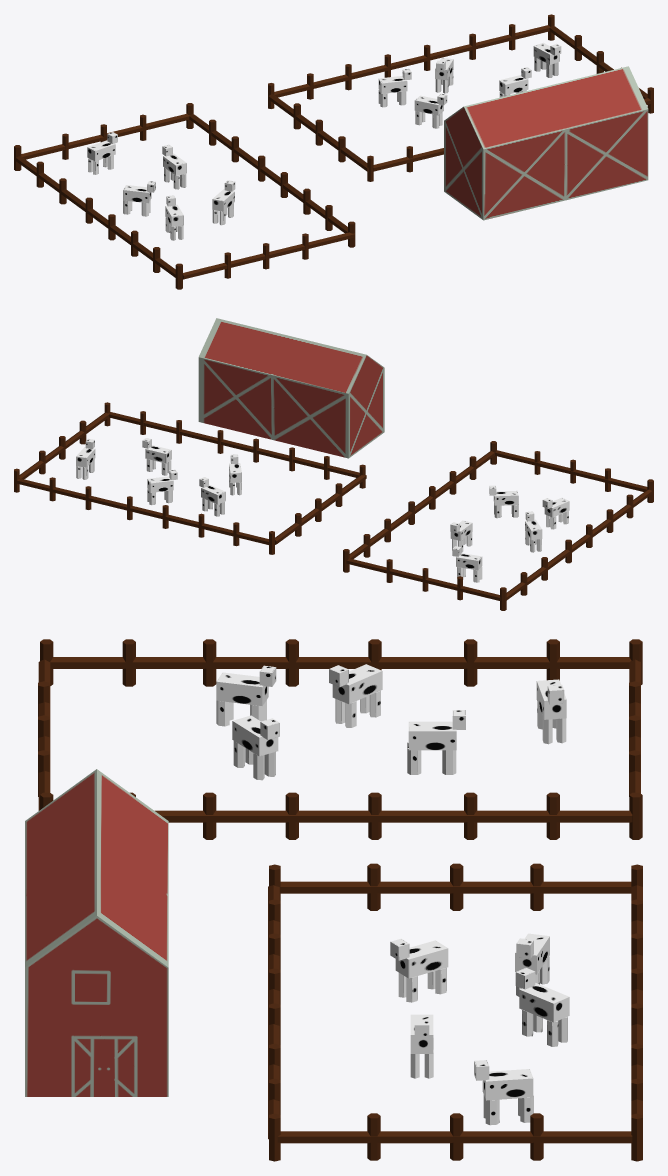
Rendered from Pastures.fbx.
3 renders of one model, top to bottom at view 1: azimuth 30°, elevation 25°; view 2: azimuth 150°, elevation 25°; view 3: azimuth 270°, elevation 25°, orthographic. The views are drawn at different scales.
Visible parts, largest first — view 1: FarmHouse, Cows; view 2: Cows, FarmHouse; view 3: Cows, FarmHouse.
Boxes of the visible parts, x1=… form: FarmHouse: x1=444, y1=66, x2=648, y2=220; Cows: x1=14, y1=14, x2=653, y2=289; Cows: x1=14, y1=402, x2=653, y2=610; FarmHouse: x1=198, y1=318, x2=384, y2=458; Cows: x1=38, y1=639, x2=642, y2=1161; FarmHouse: x1=25, y1=769, x2=168, y2=1096.
Size of the model in its own units: 1.43 by 0.252 by 0.7773.
